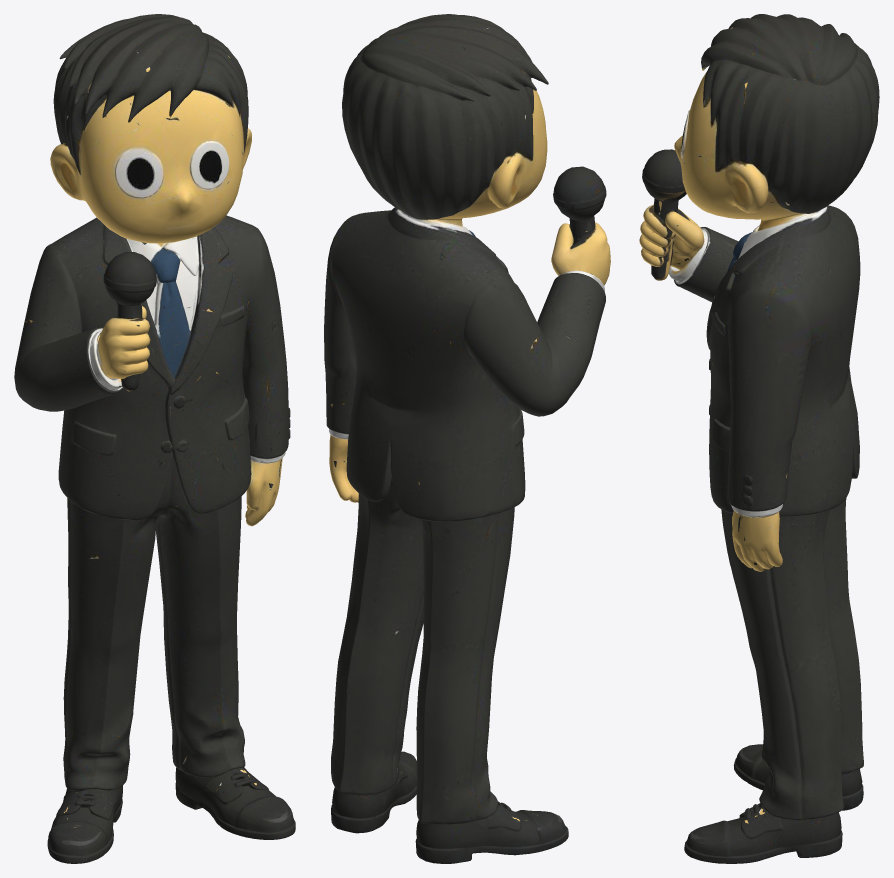
Rendered from meshy-reporter-skin.glb.
3 renders of one model, left to right at view 1: azimuth 30°, elevation 25°; view 2: azimuth 150°, elevation 25°; view 3: azimuth 270°, elevation 25°, orthographic.
Bounding box in the file's own units: 0.1162 × 0.35 × 0.0968.
Materials: 1 (1 with a texture image).
